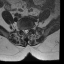CCS_normal: (25, 27, 27, 35)
LFS_stenosis: (29, 26, 31, 31)
LLS_normal: (27, 27, 29, 34)
RFS_stenosis: (20, 26, 22, 33)
RLS_normal: (22, 27, 25, 34)
